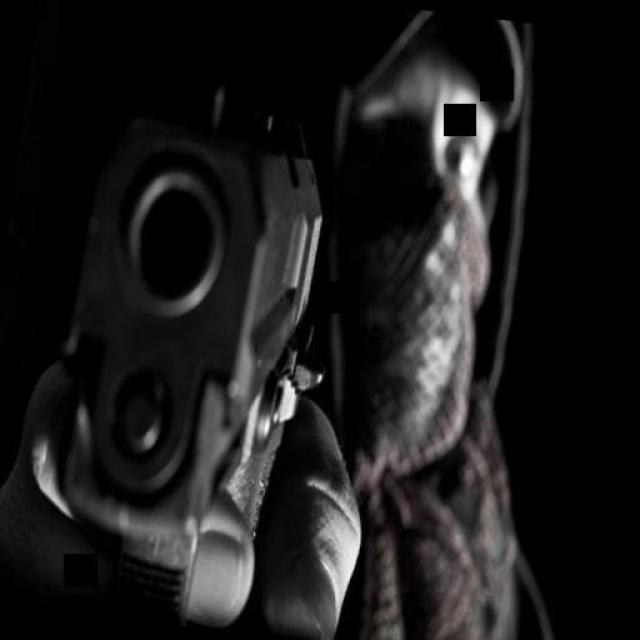gun: (21, 33, 356, 638)
